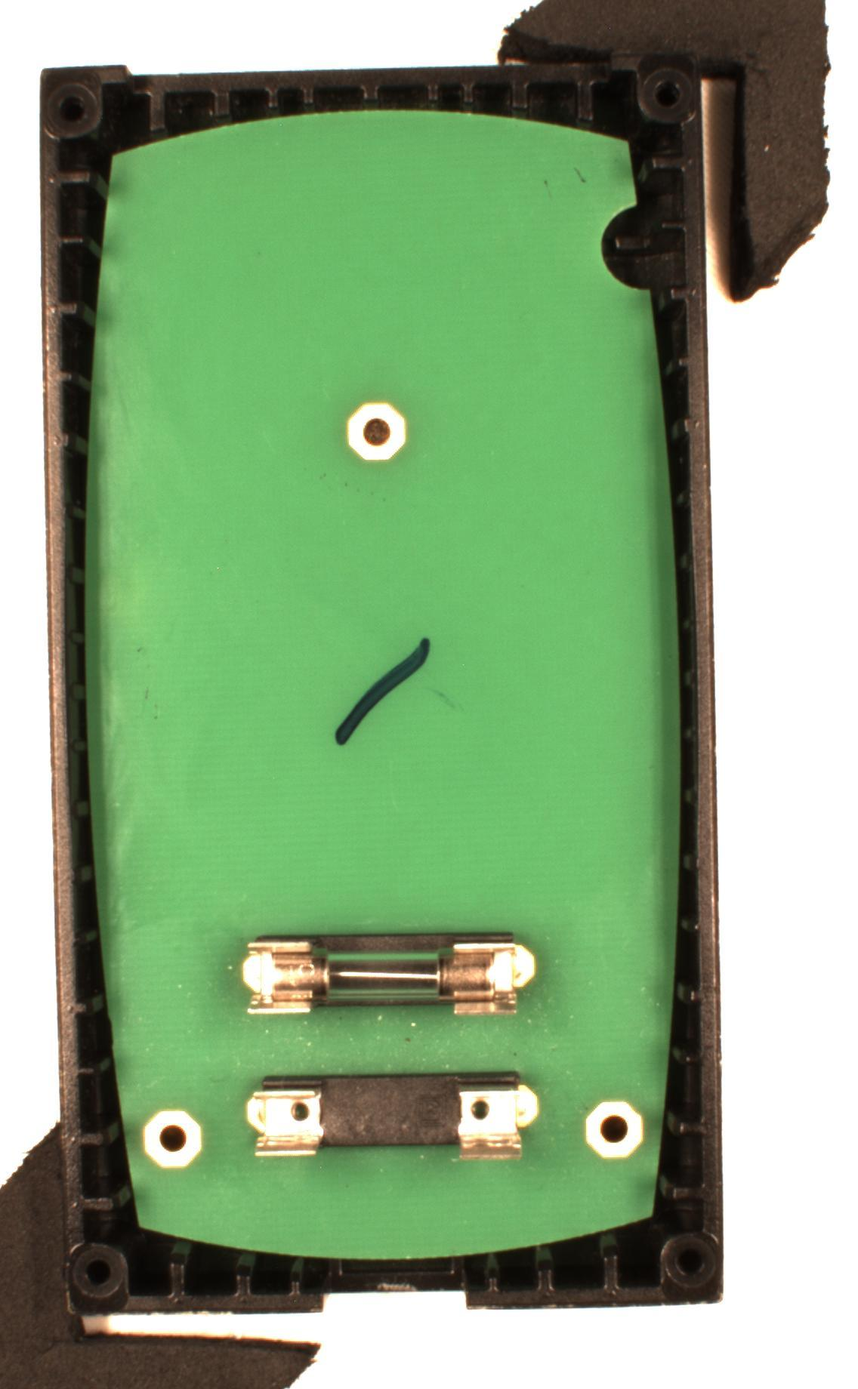Linijsko Ostecene: (333, 634, 434, 751)
Nepostojanje osiguraca: (245, 1073, 540, 1164)
